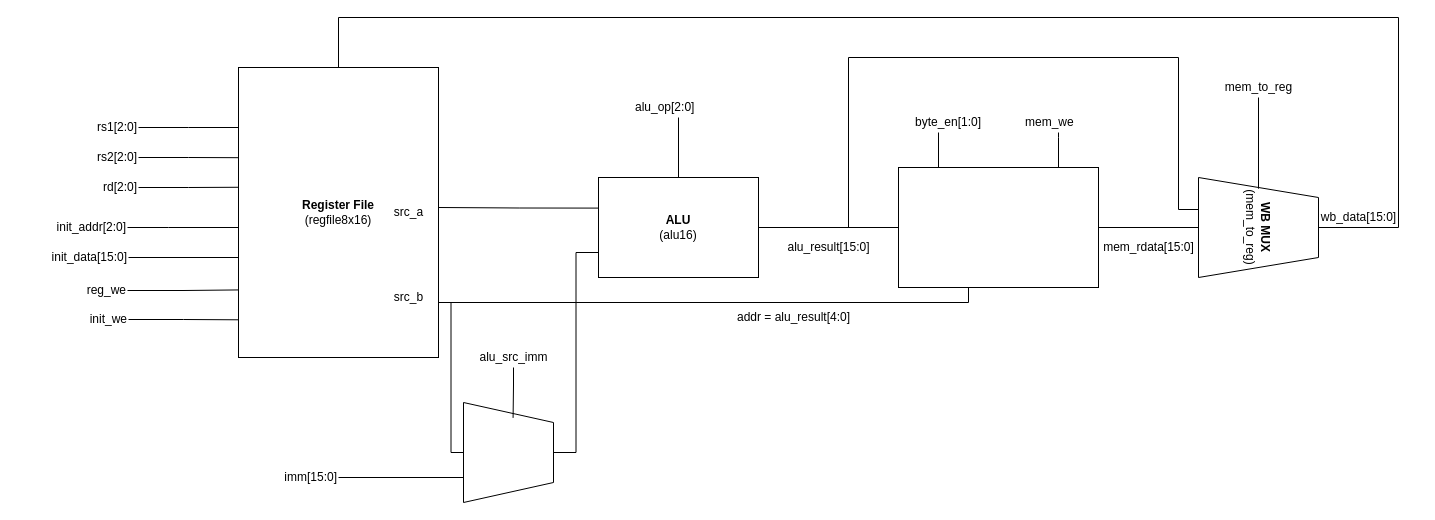
Some shapes in this 1435 by 520 pixel diagram are drawn without their labels. The shapes that lost their labels are listed below. From the top down, each one's centre as x and y in pixels, then its label:
At (998,227): "Data Memory (data_mem32x16)".
At (508,452): "ALU Src MUX (alu_src_imm)".
